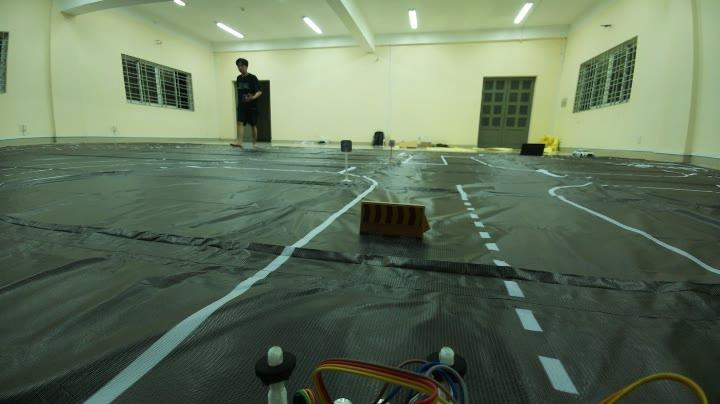roadblock: (356, 193, 440, 256)
